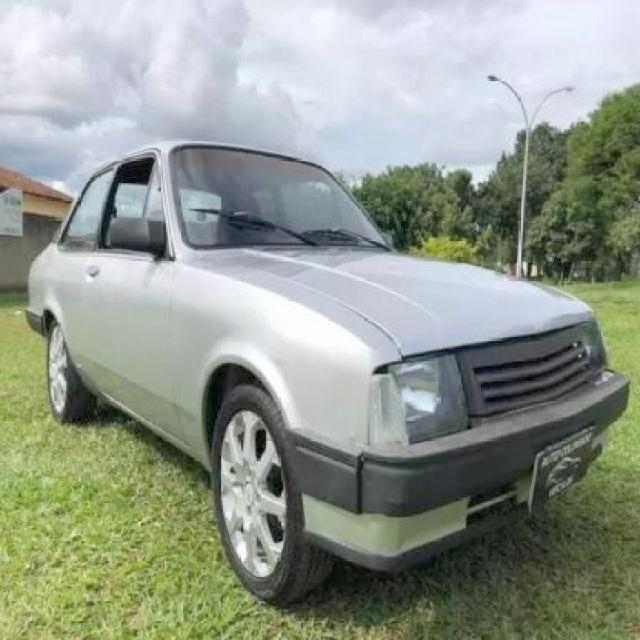car: (24, 140, 630, 612)
